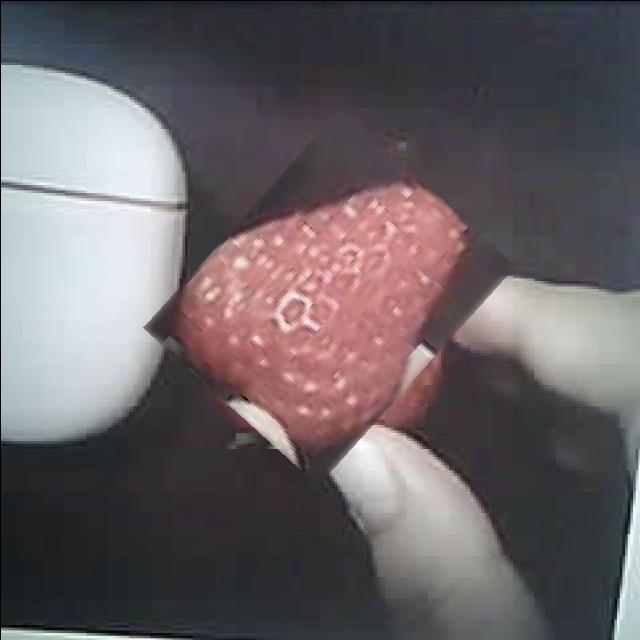strawberry: (177, 128, 480, 464)
